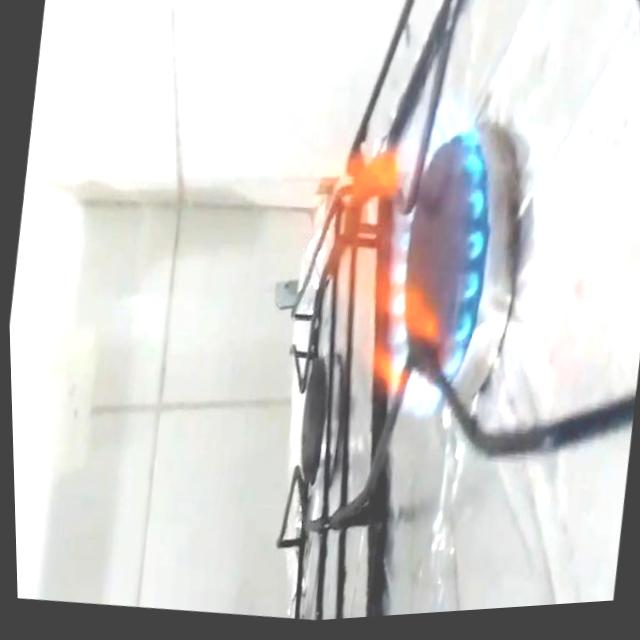helmet: (266, 73, 516, 440)
